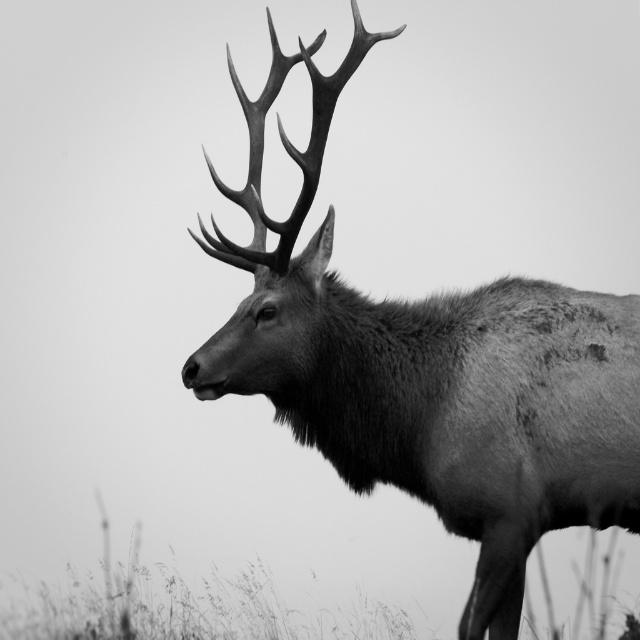Deer: (182, 0, 640, 640)
